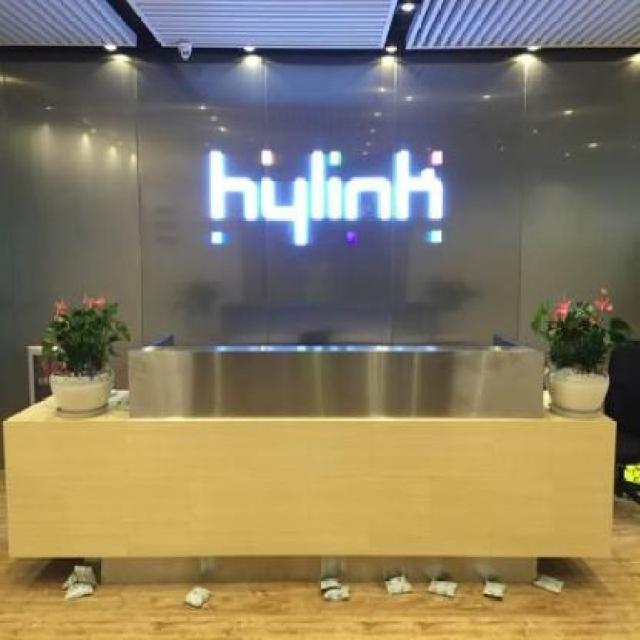frontdesk: (0, 320, 625, 588)
